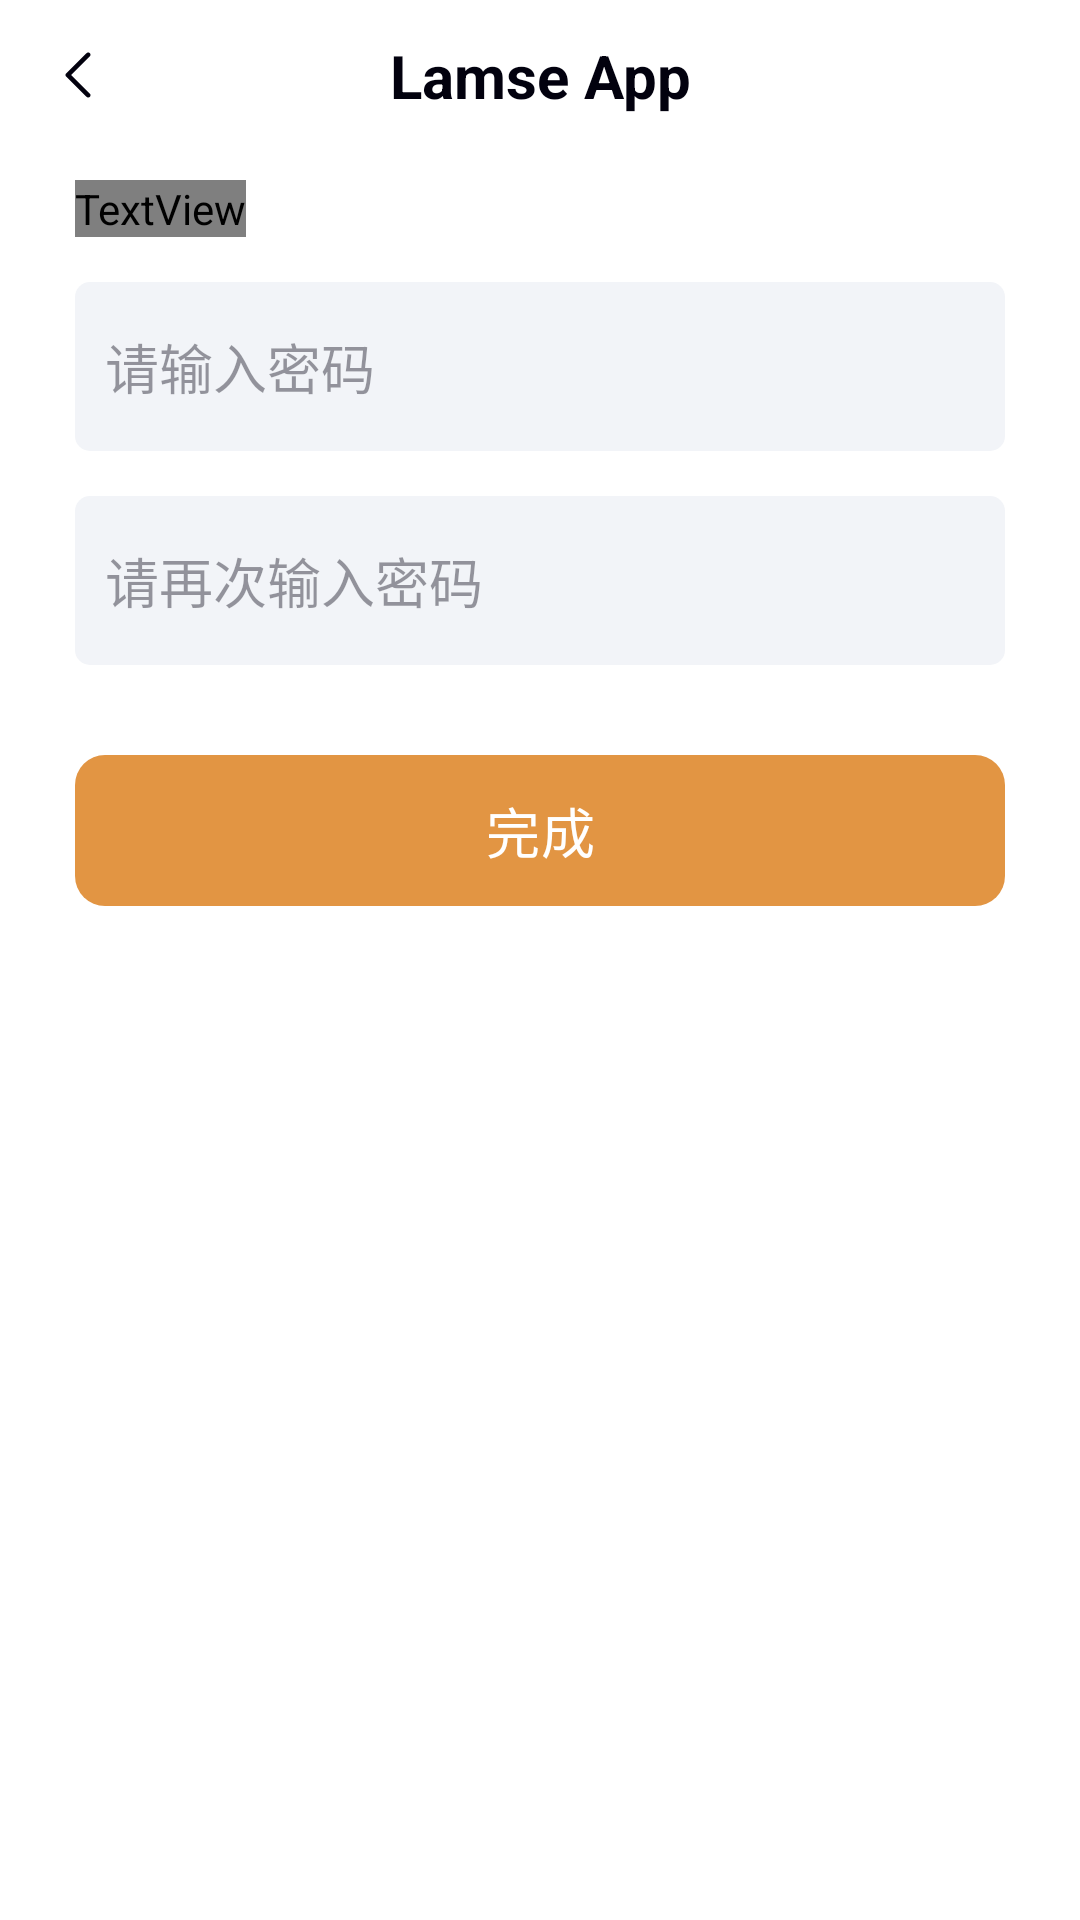

Screen size 1080px×1920px. Icon name, then its box in pixels as bbox=[x1, y1, x2, y2]:
back: bbox=[65, 52, 91, 98]
